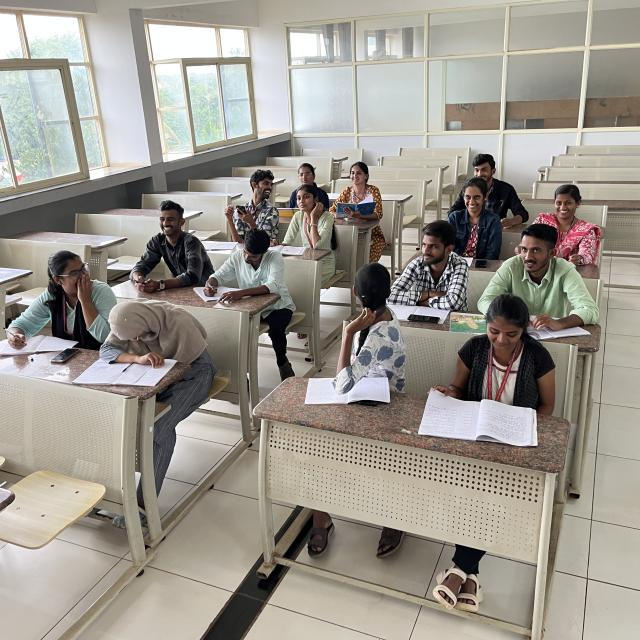Reading: (430, 292, 547, 426), (326, 152, 394, 240)
Sleeping: (98, 292, 216, 387)
Using Phone: (222, 164, 278, 239)
Writing: (1, 242, 110, 354), (200, 227, 294, 314)
